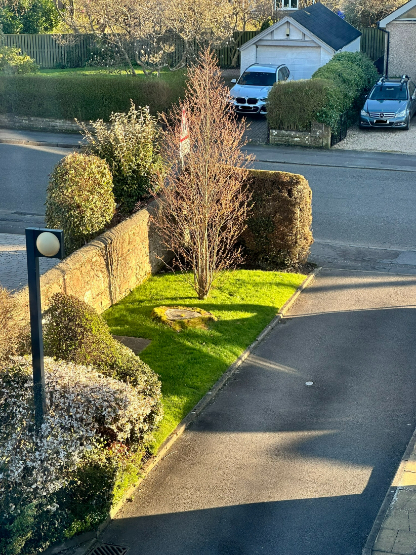car: (361, 68, 416, 139), (229, 62, 290, 115)
tree: (149, 52, 257, 286)
